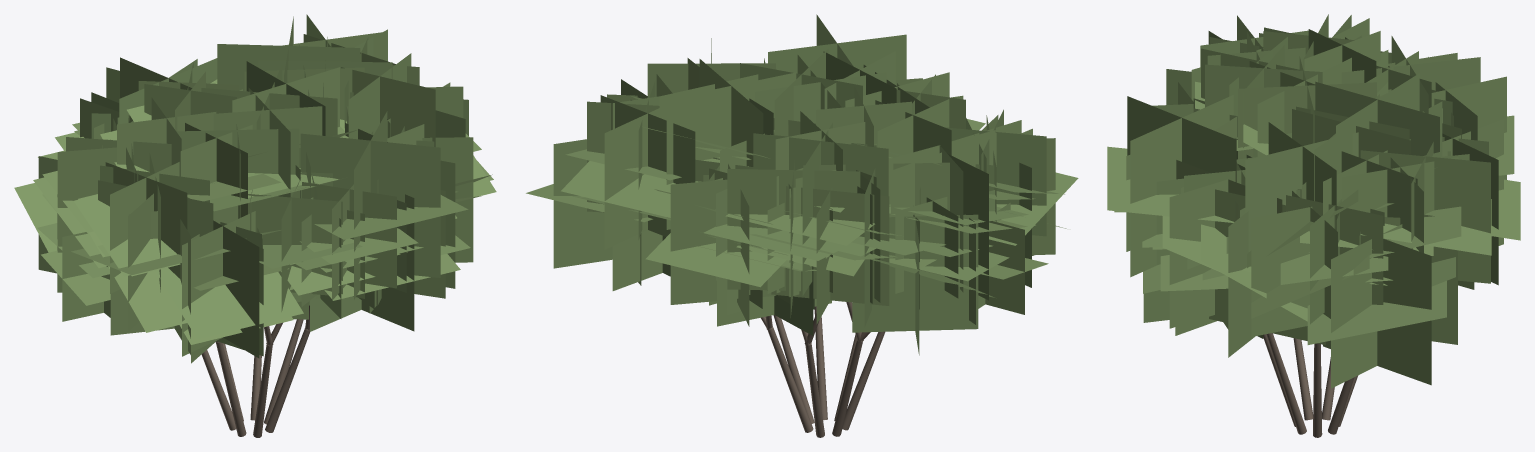
File: hazel.glb
3 views of the same model, side by side, from view 1: azimuth 30°, elevation 25°; view 2: azimuth 150°, elevation 25°; view 3: azimuth 270°, elevation 25° (orthographic). The views are drawn at different scales.
Visible parts, largest first — view 1: hazel; view 2: hazel; view 3: hazel.
Part boxes in pixels (x1,y1,x2,y2): hazel: [14, 14, 496, 437]; hazel: [526, 14, 1078, 437]; hazel: [1107, 14, 1520, 437].
Size of the model in its own units: 5.47 by 4.2 by 4.34.
